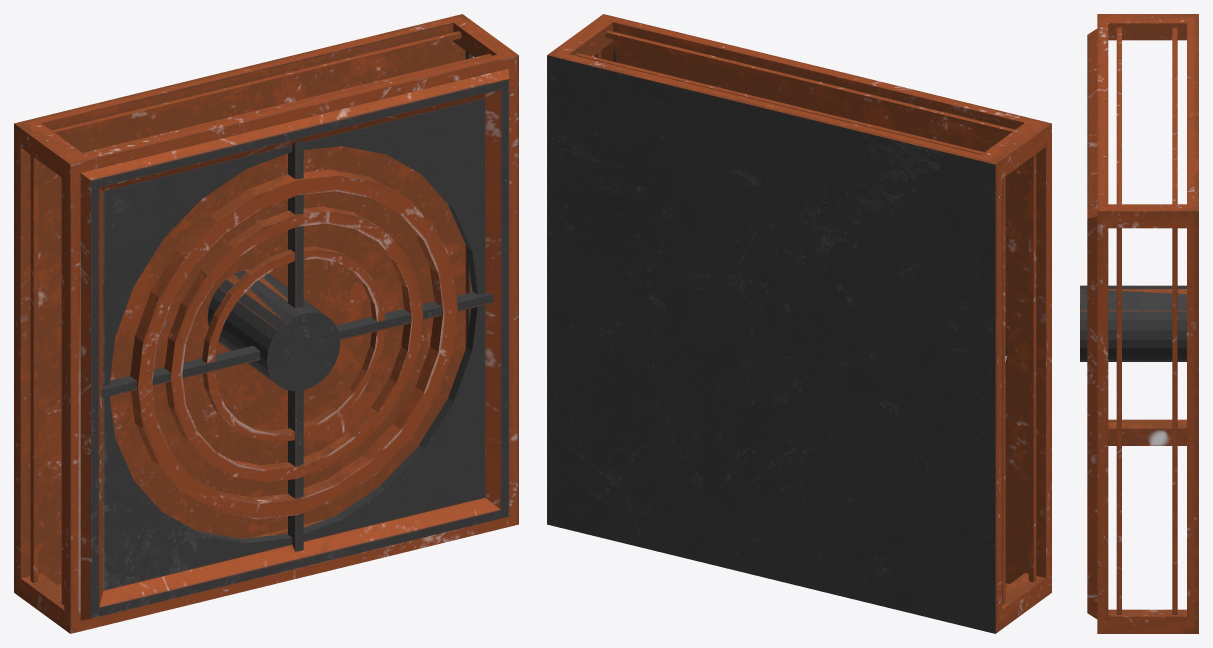
Rendered from FanHigherOnly.gltf.
The picture shows the model from 3 angles, left to right: view 1: azimuth 30°, elevation 25°; view 2: azimuth 150°, elevation 25°; view 3: azimuth 270°, elevation 25°; orthographic projection. The views are drawn at different scales.
Parts seen in each view (by area): view 1: Wiatrak; view 2: Wiatrak; view 3: Wiatrak.
Part boxes in pixels (left/top/right/bottom): Wiatrak: left=14, top=14, right=518, bottom=633; Wiatrak: left=547, top=14, right=1051, bottom=633; Wiatrak: left=1080, top=14, right=1198, bottom=633.
Size of the model in its own units: 2 by 2 by 0.5091.
1 material, 1 textured.
